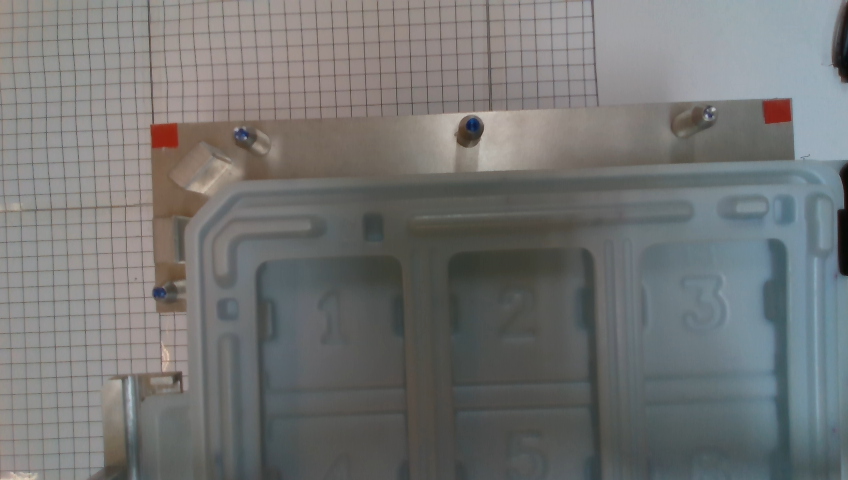red: (150, 123, 179, 148), (763, 99, 791, 124)
